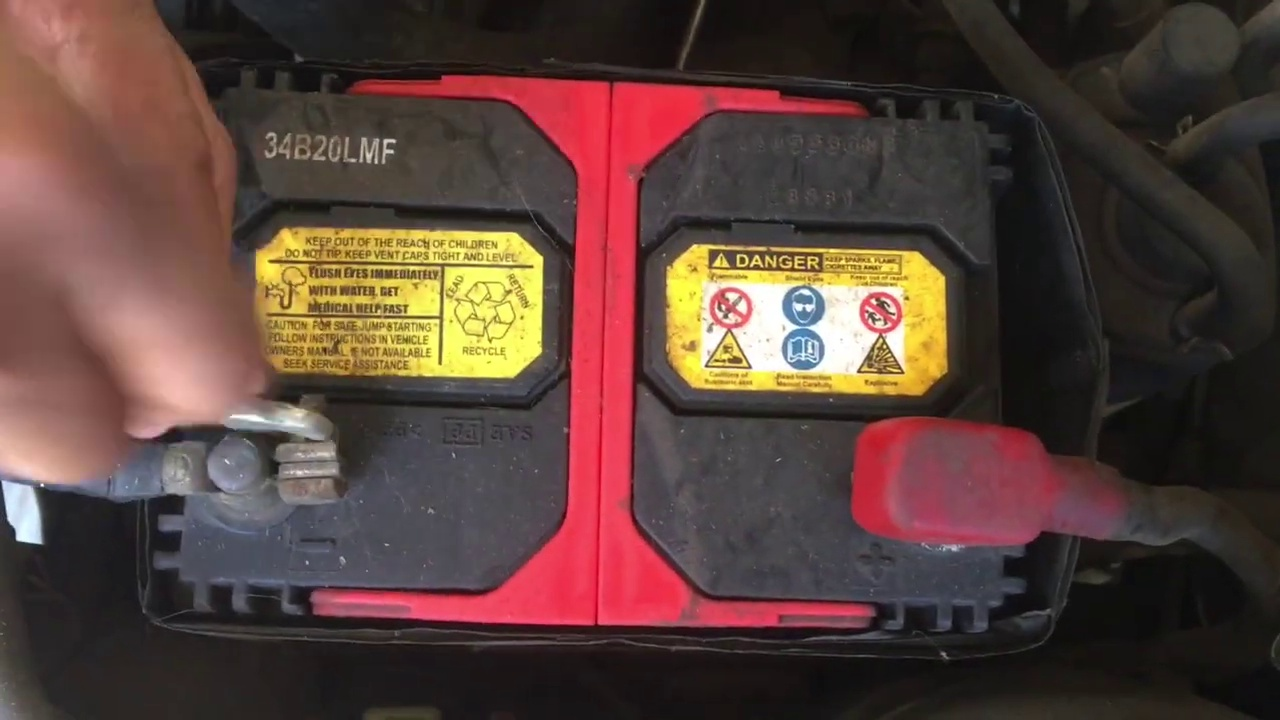battery: (136, 52, 1040, 645)
neg_connected: (45, 382, 352, 543)
neg_touched: (33, 107, 309, 536)
pos_connected: (834, 391, 1131, 579)
